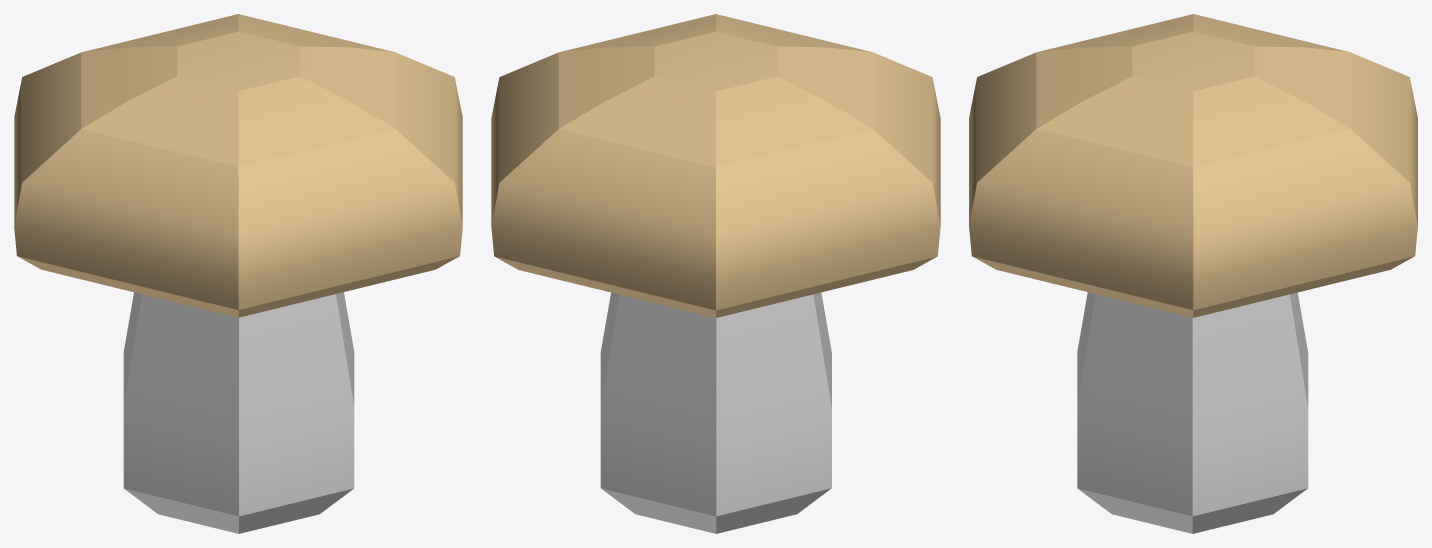
The model's file is mushroom10.fbx.
3 renders of one model, left to right at view 1: azimuth 30°, elevation 25°; view 2: azimuth 150°, elevation 25°; view 3: azimuth 270°, elevation 25°, orthographic.
Parts seen in each view (by area): view 1: pCylinder87, pCylinder86; view 2: pCylinder87, pCylinder86; view 3: pCylinder87, pCylinder86.
Part boxes in pixels (box(x1,y1,x2,y2)): pCylinder87: box(14, 14, 462, 317); pCylinder86: box(123, 292, 354, 533); pCylinder87: box(491, 14, 940, 317); pCylinder86: box(600, 292, 831, 533); pCylinder87: box(969, 14, 1417, 317); pCylinder86: box(1077, 292, 1308, 533).
Bounding box in the file's own units: 4.29 × 3.99 × 3.72.
